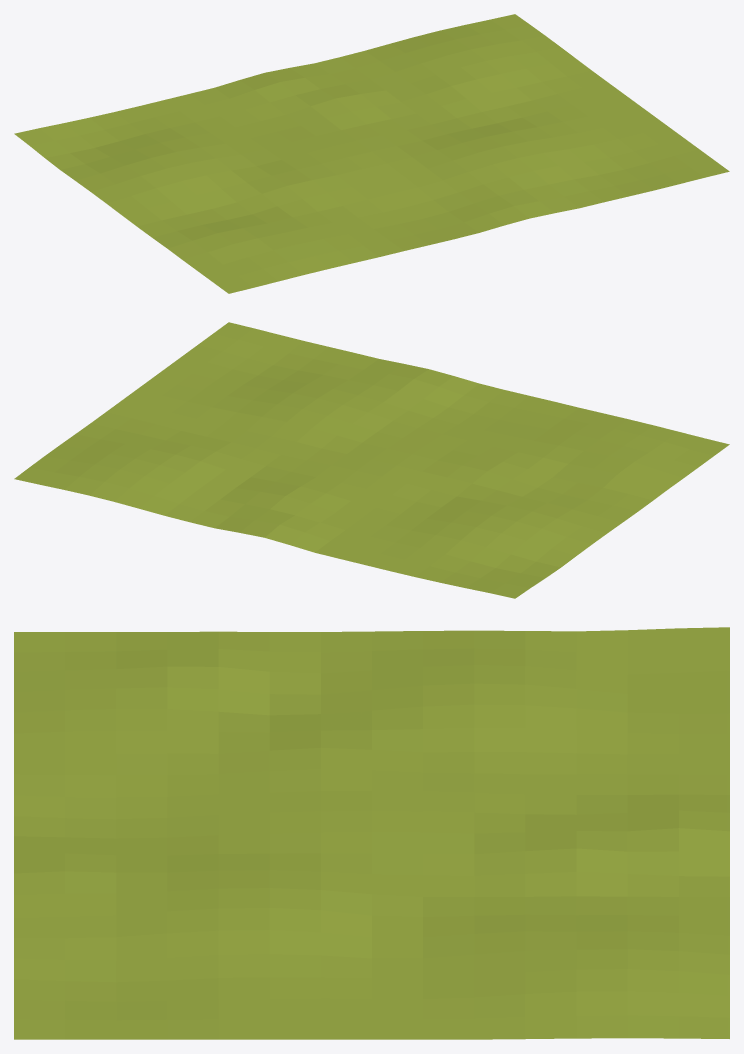
The model's file is floor_grass.fbx.
The picture shows the model from 3 angles, top to bottom: view 1: azimuth 30°, elevation 25°; view 2: azimuth 150°, elevation 25°; view 3: azimuth 270°, elevation 25°; orthographic projection. The views are drawn at different scales.
Parts seen in each view (by area): view 1: Plane; view 2: Plane; view 3: Plane.
Part boxes in pixels (x1,y1,x2,y2): Plane: [14, 14, 729, 293]; Plane: [14, 322, 729, 598]; Plane: [14, 627, 729, 1039].
Bounding box in the file's own units: 26.14 × 19.4 × 0.3967.
